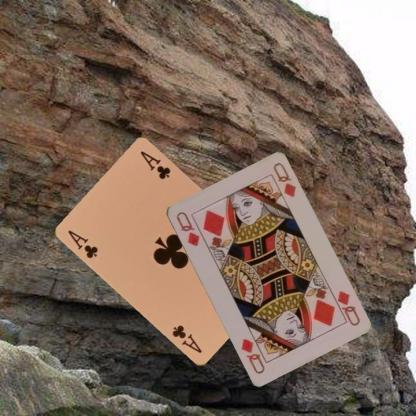Ac: (65, 227, 100, 260)
Qd: (328, 288, 361, 327), (173, 209, 200, 247)
